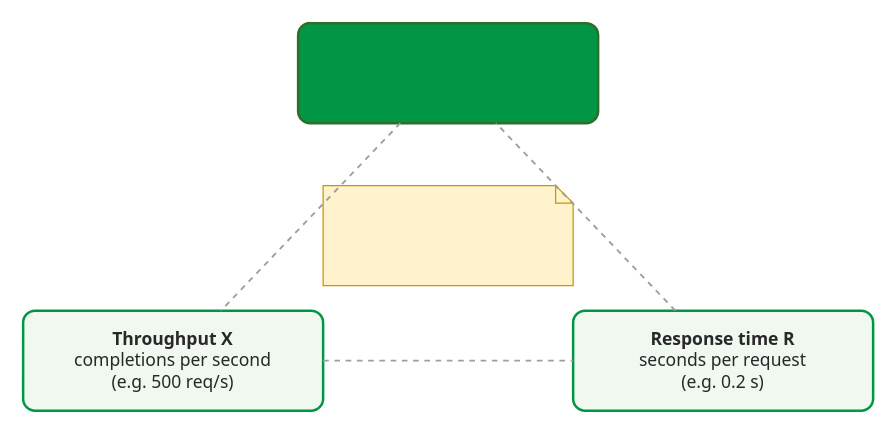
Image size: 895x433. Some labels were removed from this diagram. Each missing label, with the box of its shape:
Concurrency N requests in the system (e.g. 100 open connections): (296, 21, 599, 124)
N = X · R know two, derive the third 100 = 500 × 0.2: (322, 184, 573, 286)
